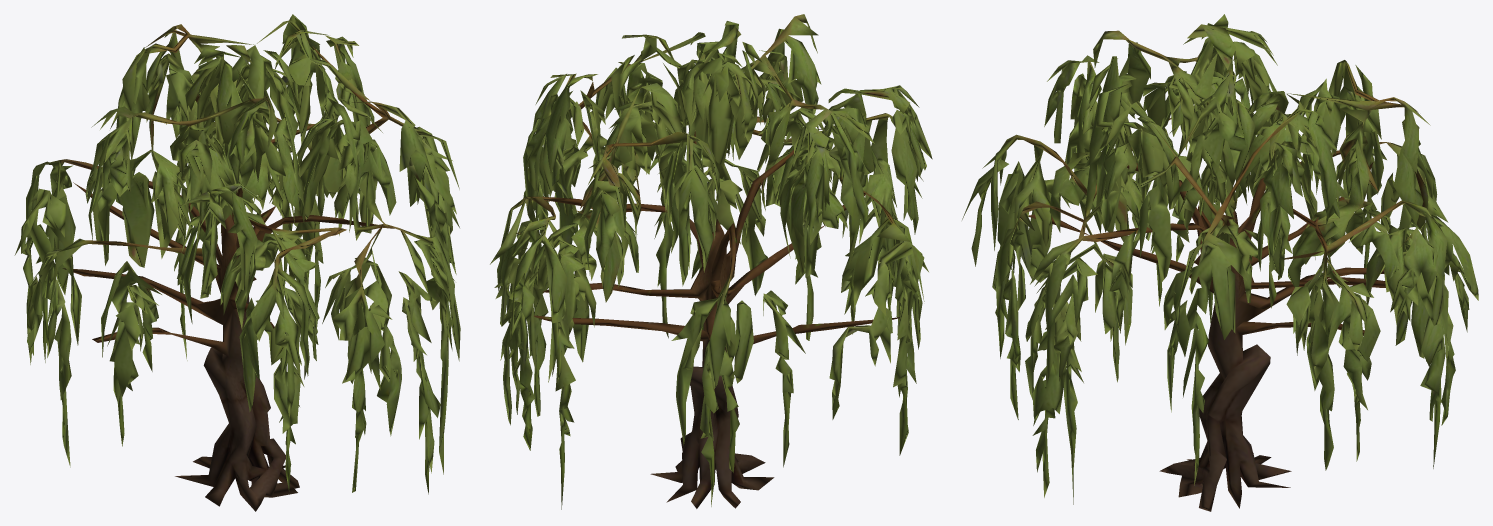
Rendered from tree_willow.glb.
The picture shows the model from 3 angles, left to right: view 1: azimuth 30°, elevation 25°; view 2: azimuth 150°, elevation 25°; view 3: azimuth 270°, elevation 25°; orthographic projection.
Size of the model in its own units: 0.9144 by 0.9873 by 1.
1 material, 1 textured.
